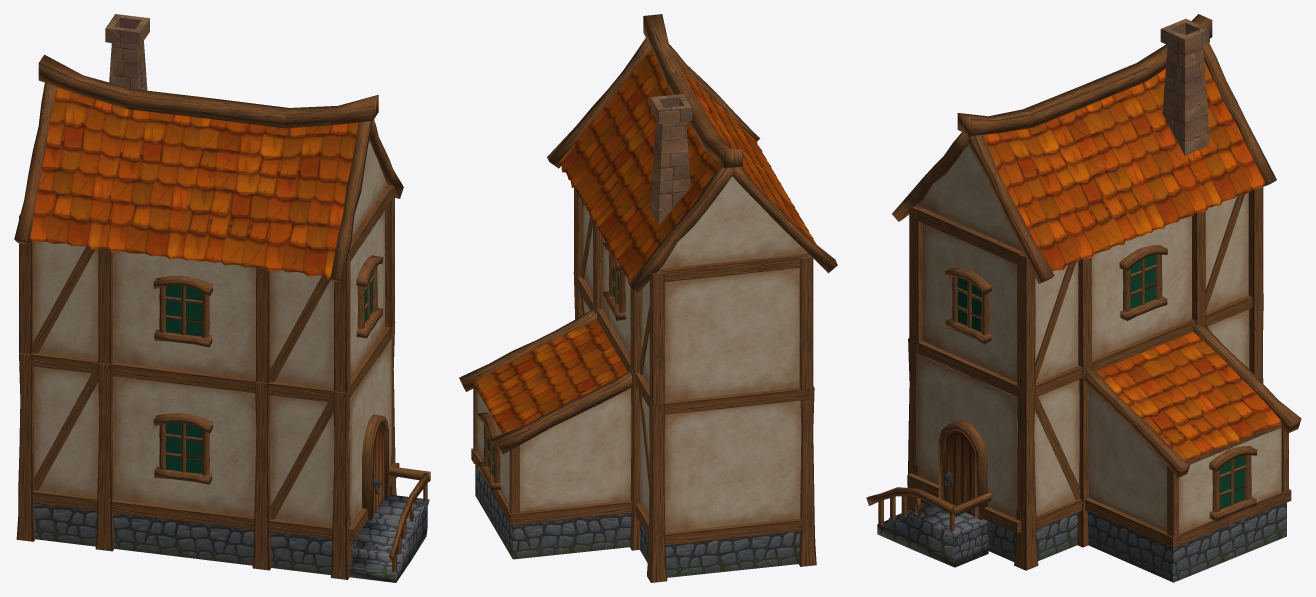
File: SquareHouseE.obj
The picture shows the model from 3 angles, left to right: view 1: azimuth 30°, elevation 25°; view 2: azimuth 150°, elevation 25°; view 3: azimuth 270°, elevation 25°; orthographic projection. The views are drawn at different scales.
Visible parts, largest first — view 1: RH5; view 2: RH5; view 3: RH5.
Boxes of the visible parts, bbox=[...] form: RH5: bbox=[14, 14, 430, 582]; RH5: bbox=[459, 14, 837, 582]; RH5: bbox=[866, 14, 1301, 582].
Size of the model in its own units: 5.2 by 6.32 by 5.5.
Materials: 3 (2 with a texture image).
